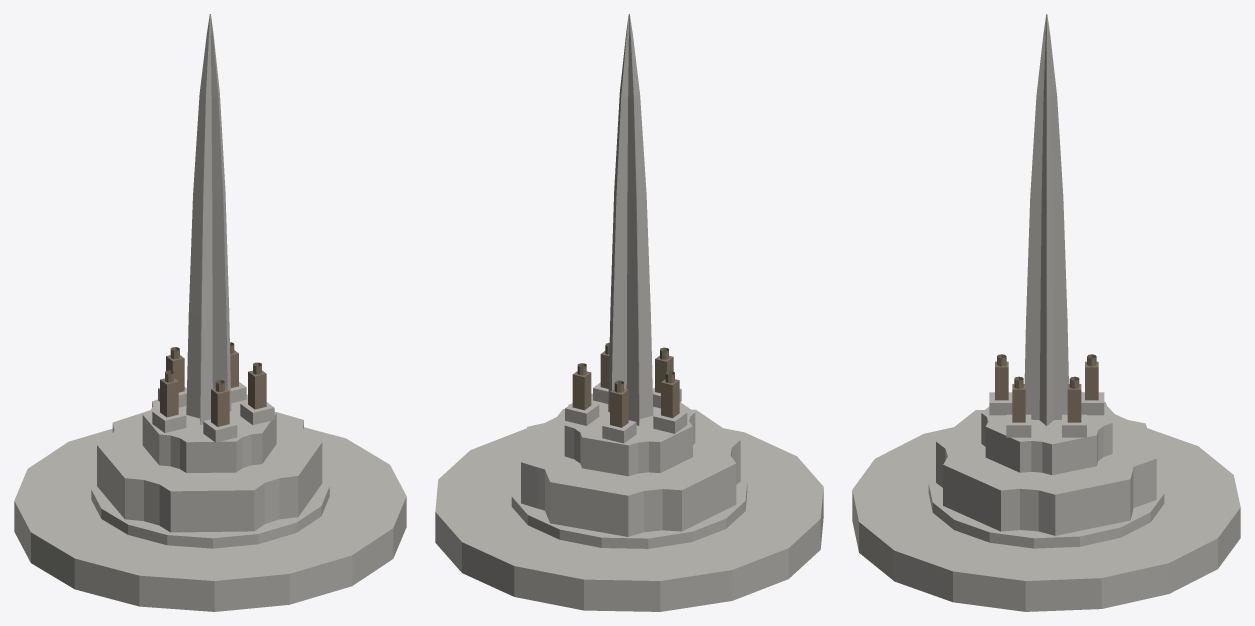
Rendered from victory.glb.
3 views of the same model, side by side, from view 1: azimuth 30°, elevation 25°; view 2: azimuth 150°, elevation 25°; view 3: azimuth 270°, elevation 25° (orthographic).
Parts seen in each view (by area): view 1: victory; view 2: victory; view 3: victory.
Part boxes in pixels (box(x1,y1,x2,y2)): victory: box(14, 14, 406, 611); victory: box(435, 14, 823, 611); victory: box(852, 14, 1240, 611).
Size of the model in its own units: 34.4 by 50 by 34.17.
